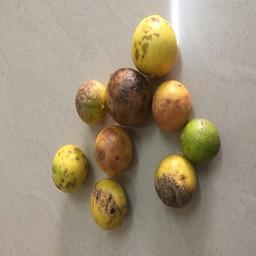Bad_lime: (122, 11, 185, 74), (108, 71, 154, 128), (94, 173, 133, 239), (156, 155, 201, 210), (45, 145, 91, 198), (70, 75, 110, 130), (92, 132, 136, 173), (156, 79, 192, 129)
